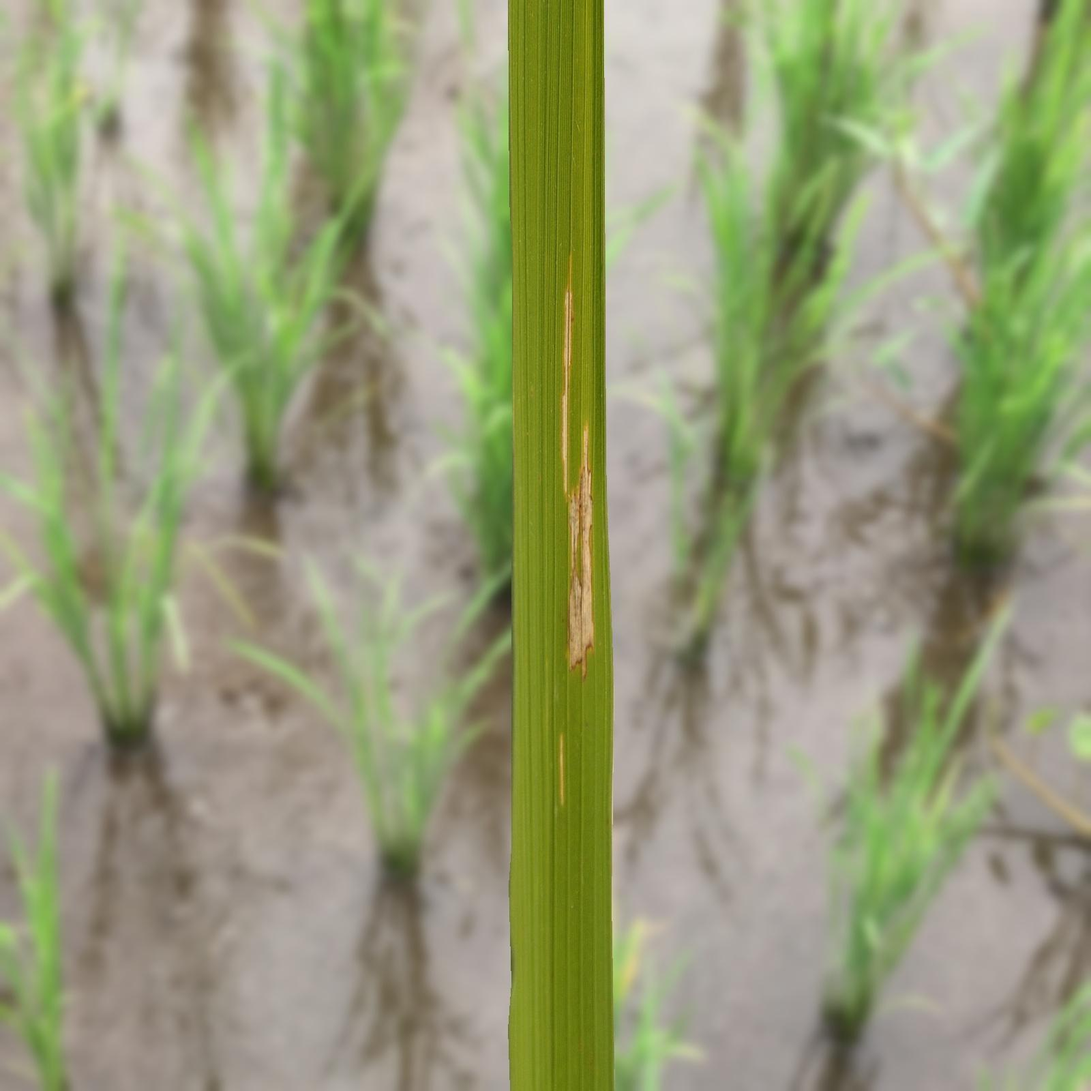BLS: (567, 421, 593, 682), (562, 253, 574, 504), (558, 732, 565, 806)
LEAF: (508, 0, 614, 1090)
